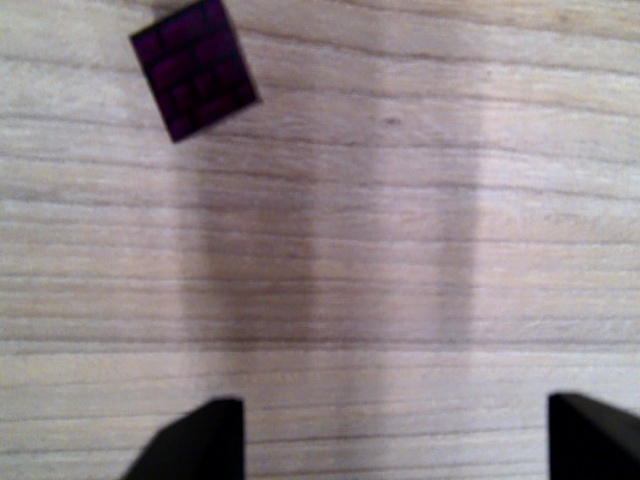brick: (124, 1, 266, 146)
